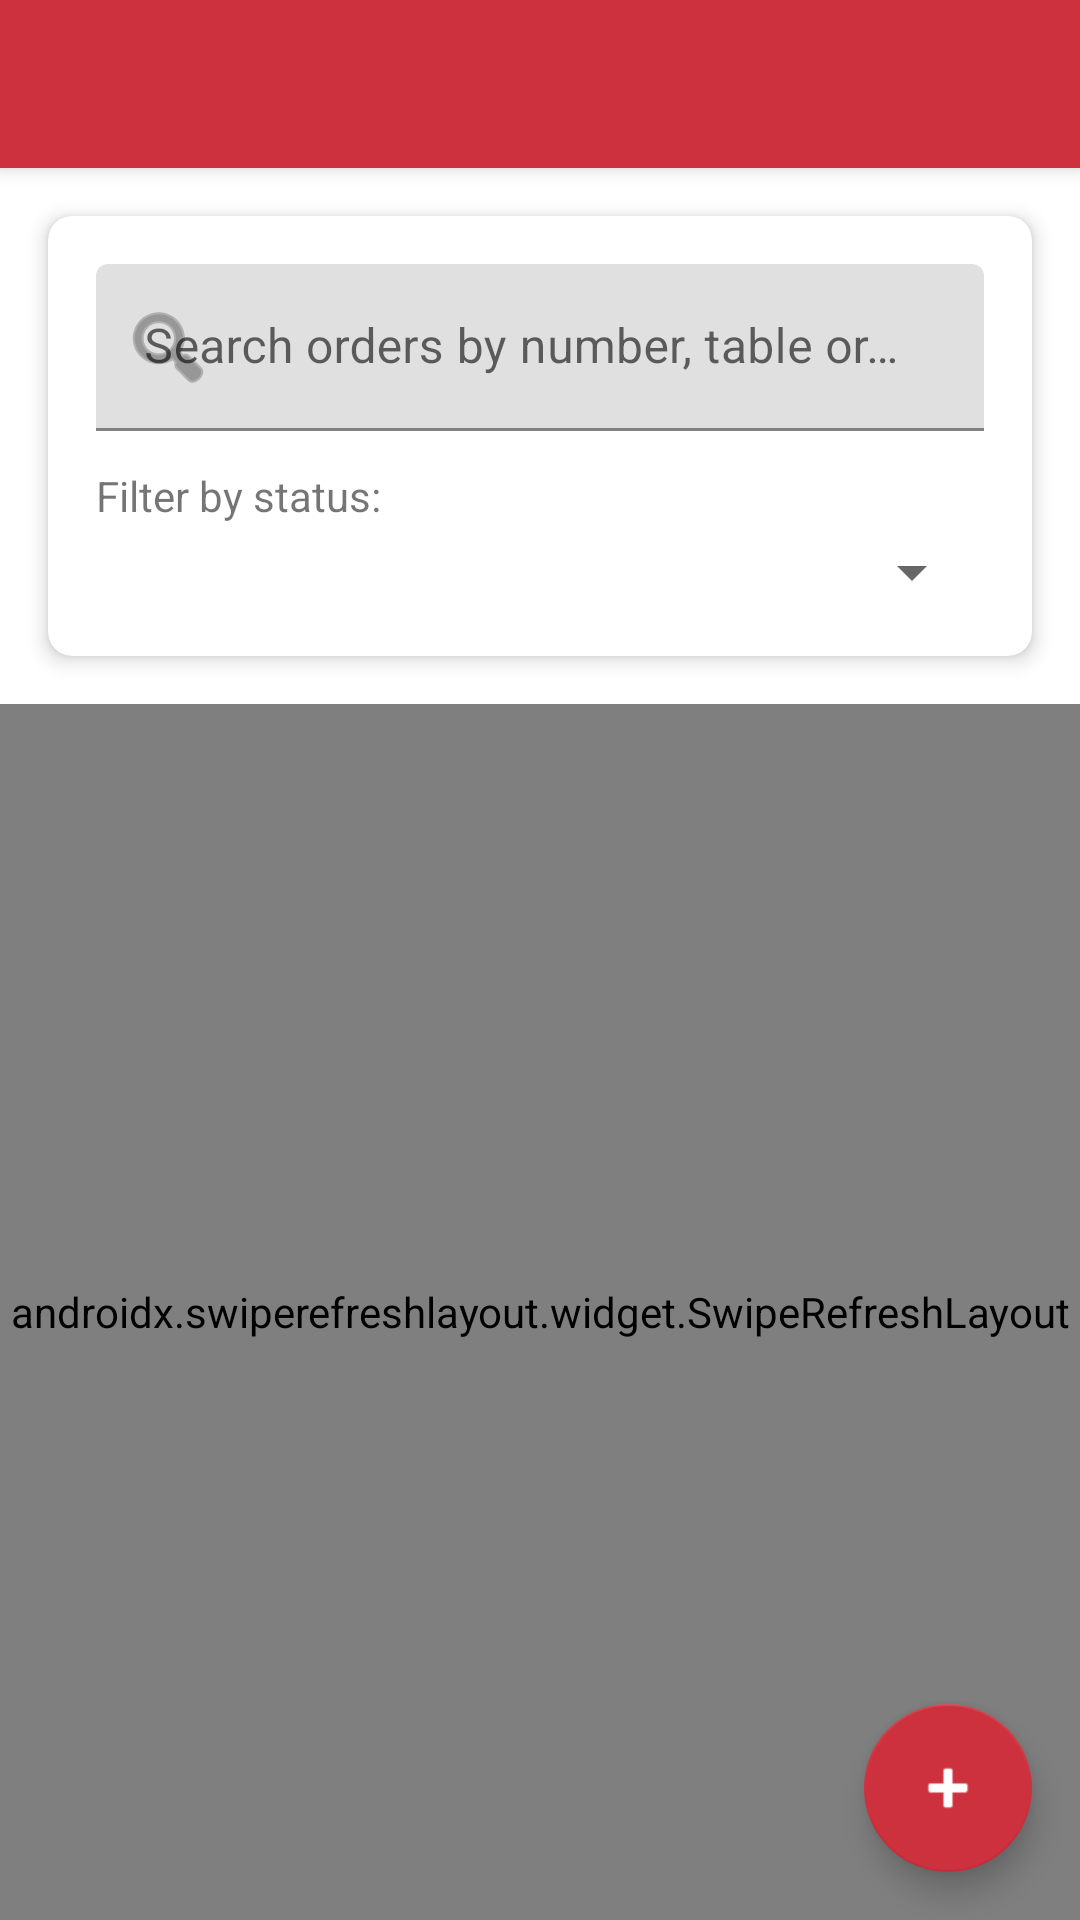

Point at icon controls on the screen. Image size 1080px×1920px, points as point (x, y).
Add New Order: point (948, 1788)
